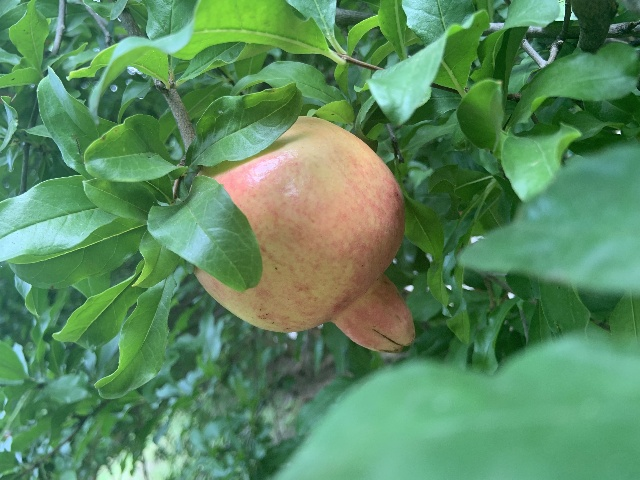ripe: (190, 117, 416, 354)
